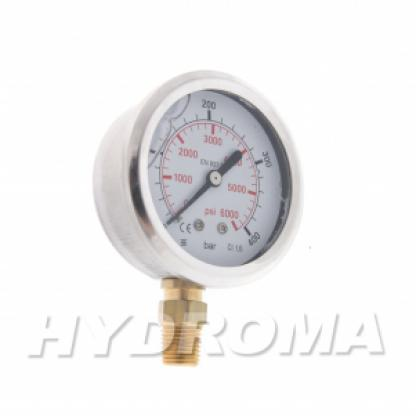needle: (165, 181, 212, 226)
